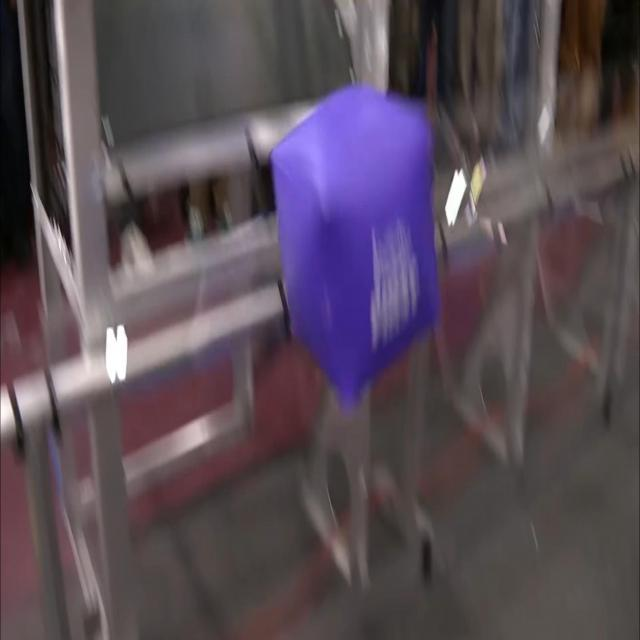frc_cube: (271, 76, 443, 394)
